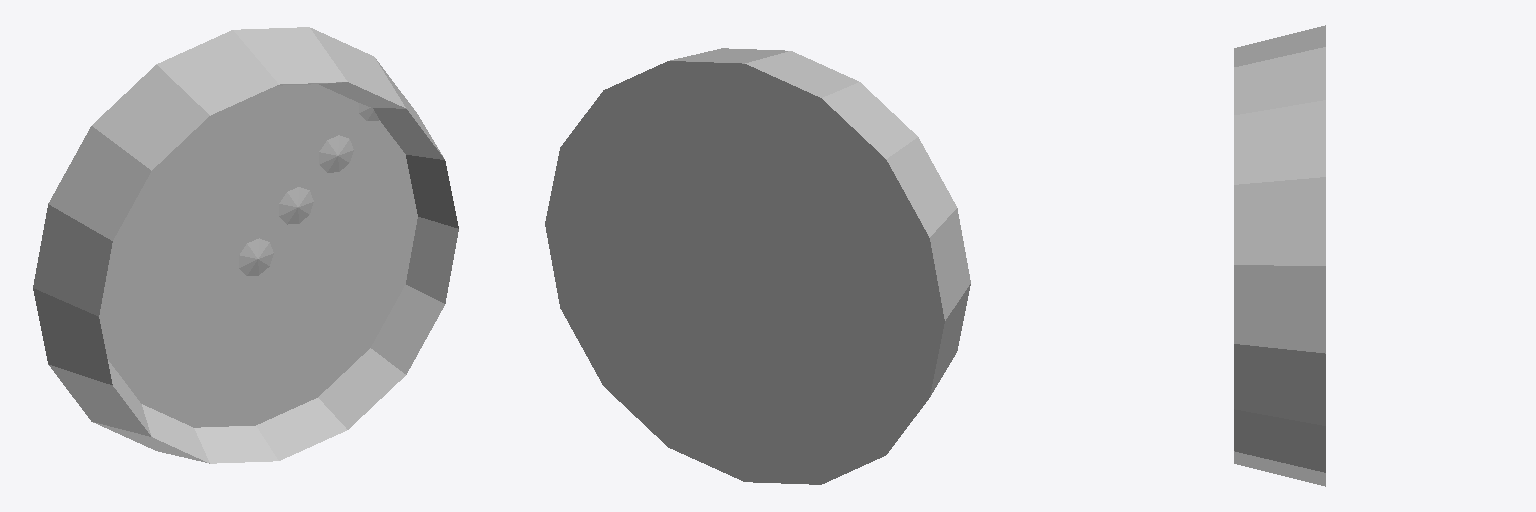
Rendered from obj_interactive_compass_test2.obj.
3 renders of one model, left to right at view 1: azimuth 30°, elevation 25°; view 2: azimuth 150°, elevation 25°; view 3: azimuth 270°, elevation 25°, orthographic.
Parts seen in each view (by area): view 1: Cylinder1.002; view 2: Cylinder1.002; view 3: Cylinder1.002.
Part boxes in pixels (x1,y1,x2,y2): Cylinder1.002: (33,27,458,463); Cylinder1.002: (545,48,970,484); Cylinder1.002: (1234,25,1325,486).
Bounding box in the file's own units: 1 × 1 × 0.2.